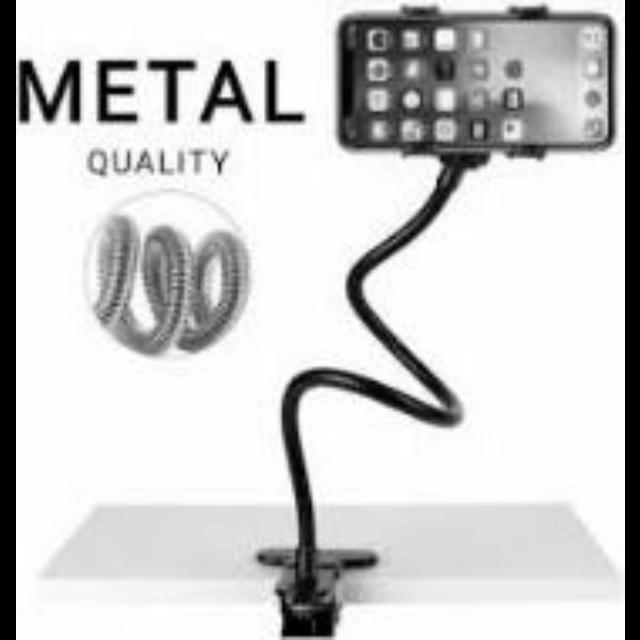fake: (333, 4, 614, 158)
